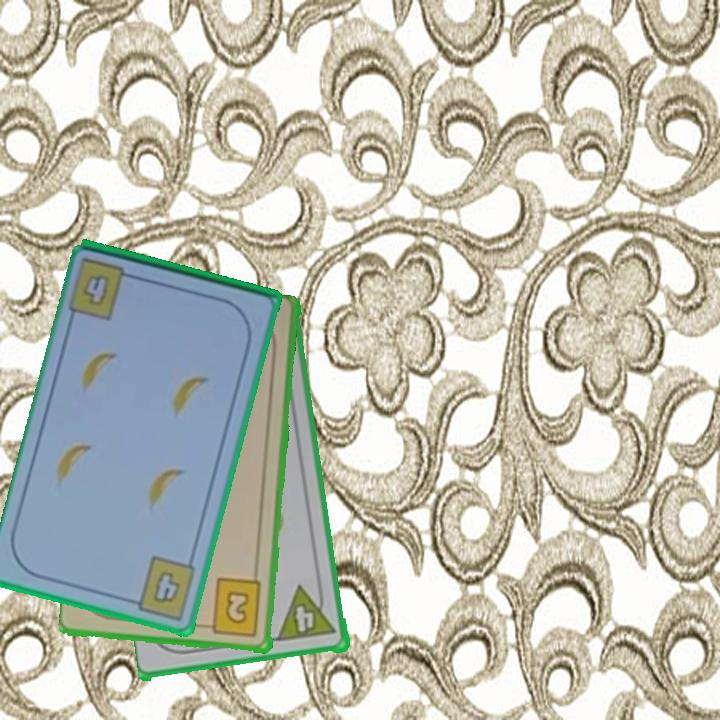2b: (200, 576, 265, 640)
4b: (125, 553, 199, 623), (79, 271, 114, 310)
4p: (274, 581, 340, 645)
